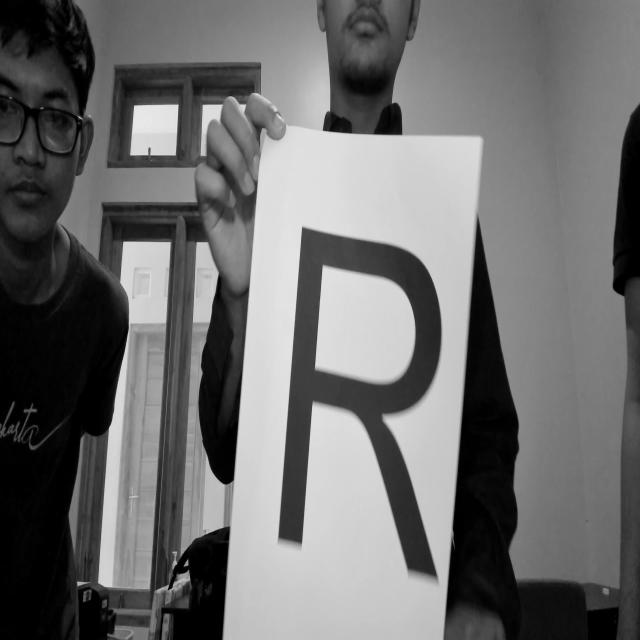r: (271, 208, 454, 591)
